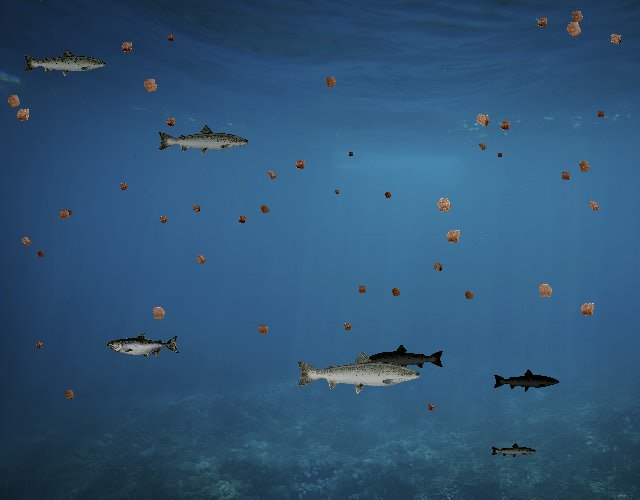Fish: (294, 349, 423, 395), (156, 124, 250, 157), (22, 47, 108, 78), (365, 343, 446, 372), (107, 332, 180, 359), (493, 368, 561, 393), (491, 443, 538, 459)
Pellet: (439, 222, 468, 251), (573, 295, 601, 323), (469, 107, 496, 134), (572, 155, 596, 179), (290, 154, 311, 175), (459, 286, 478, 305), (339, 319, 356, 336), (32, 338, 46, 352)
